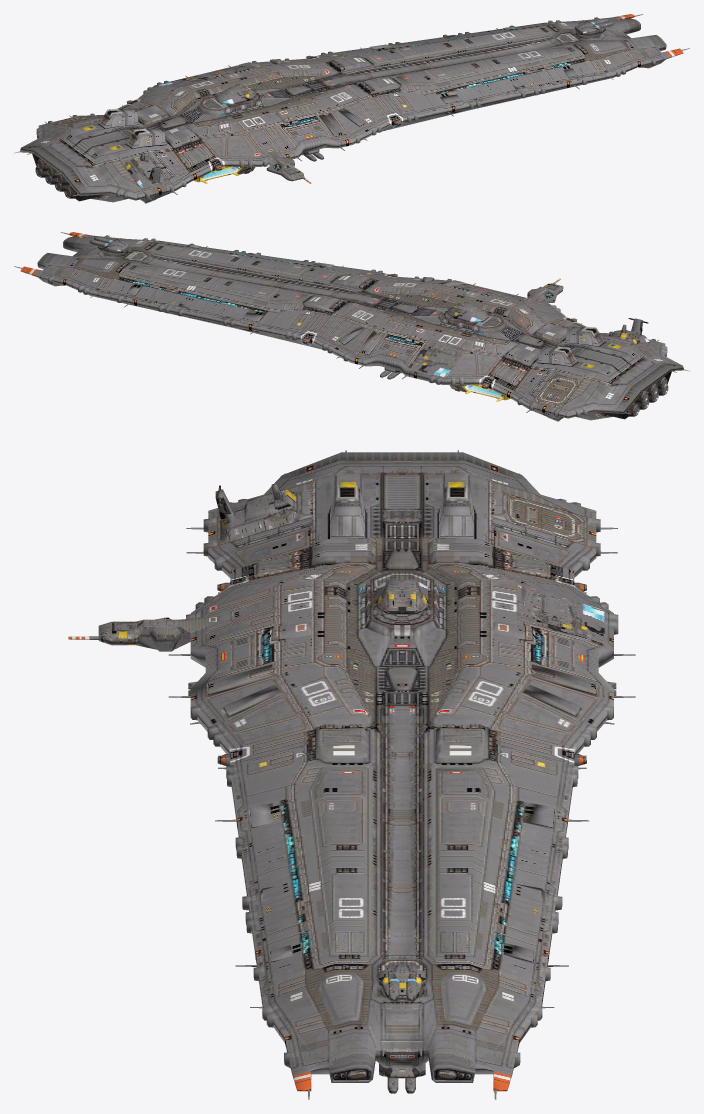
File: Fleet_Antares_Battleship.fbx
The picture shows the model from 3 angles, top to bottom: view 1: azimuth 30°, elevation 25°; view 2: azimuth 150°, elevation 25°; view 3: azimuth 270°, elevation 25°; orthographic projection. The views are drawn at different scales.
Parts seen in each view (by area): view 1: S_hgn_battlecruiser_Hgn_BattleCruiser_Main_EXPORT, S_hgn_battlecruiser_Hgn_C_Module_FireControl_EXPORT, S_ion_turret_1, S_gun_turret_3, S_hgn_battlecruiser_Hgn_BattleCruiser_Thruster_EXPORT, S_hgn_battlecruiser_Hgn_BattleCruiser_Badge_EXPORT, S_hgn_battlecruiser_Hgn_BattleCruiser_Engine_EXPORT; view 2: S_hgn_battlecruiser_Hgn_BattleCruiser_Main_EXPORT, S_hgn_battlecruiser_Hgn_BattleCruiser_Badge_EXPORT, S_ion_turret_1, S_hgn_battlecruiser_Hgn_C_Module_FireControl_EXPORT, S_gun_turret_3, S_hgn_battlecruiser_Hgn_BattleCruiser_Thruster_EXPORT; view 3: S_hgn_battlecruiser_Hgn_BattleCruiser_Main_EXPORT, S_hgn_battlecruiser_Hgn_BattleCruiser_Badge_EXPORT, S_hgn_battlecruiser_Hgn_C_Module_FireControl_EXPORT, S_hgn_battlecruiser_Hgn_BattleCruiser_Engine_EXPORT, S_ion_turret_1, S_gun_turret_3.
Part boxes in pixels (x1,y1,x2,y2): S_hgn_battlecruiser_Hgn_BattleCruiser_Main_EXPORT: (14,14,689,203); S_hgn_battlecruiser_Hgn_C_Module_FireControl_EXPORT: (124,153,168,188); S_ion_turret_1: (215,84,256,104); S_gun_turret_3: (575,18,613,36); S_hgn_battlecruiser_Hgn_BattleCruiser_Thruster_EXPORT: (35,159,70,198); S_hgn_battlecruiser_Hgn_BattleCruiser_Badge_EXPORT: (157,76,216,87); S_hgn_battlecruiser_Hgn_BattleCruiser_Engine_EXPORT: (266,163,304,181); S_hgn_battlecruiser_Hgn_BattleCruiser_Main_EXPORT: (14,232,689,421); S_hgn_battlecruiser_Hgn_BattleCruiser_Badge_EXPORT: (408,339,466,377); S_ion_turret_1: (447,302,488,322); S_hgn_battlecruiser_Hgn_C_Module_FireControl_EXPORT: (607,318,649,343); S_gun_turret_3: (89,237,128,254); S_hgn_battlecruiser_Hgn_BattleCruiser_Thruster_EXPORT: (633,377,668,416); S_hgn_battlecruiser_Hgn_BattleCruiser_Main_EXPORT: (68,450,635,1099); S_hgn_battlecruiser_Hgn_BattleCruiser_Badge_EXPORT: (517,583,604,646); S_hgn_battlecruiser_Hgn_C_Module_FireControl_EXPORT: (215,483,296,541); S_hgn_battlecruiser_Hgn_BattleCruiser_Engine_EXPORT: (98,619,190,651); S_ion_turret_1: (376,579,427,614); S_gun_turret_3: (379,965,425,1001).
Size of the model in its own units: 223 by 28.27 by 87.67.
